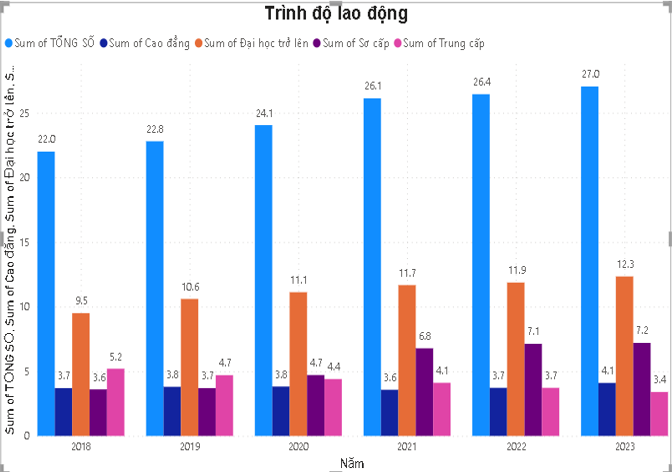

The page's visual inventory and layout, read from the dashboard file:
{"tool":"powerbi","page":{"name":"Page 2","canvas":[1280,720],"ordinal":4},"visuals":[{"type":"clusteredColumnChart","title":"Trình độ lao động","fields":{"Y":["Sum(Trình độ (2).TỔNG SỐ)","Sum(Trình độ (2).Cao đẳng)","Sum(Trình độ (2).Đại học trở lên)","Sum(Trình độ (2).Sơ cấp)","Sum(Trình độ (2).Trung cấp)"],"Category":["Trình độ (2).Năm"]},"box":[160.5,72.7,882.3,526.9],"z":0}]}

Visuals, with their boxes on the page's 1280x720 design canvas (x1, y1, x2, y2). These are canvas units, not pixel positions in the 672x475 screenshot, which may show the page scaled, cropped or inside an application window:
"Trình độ lao động" clusteredColumnChart: x1=160 y1=73 x2=1043 y2=600
